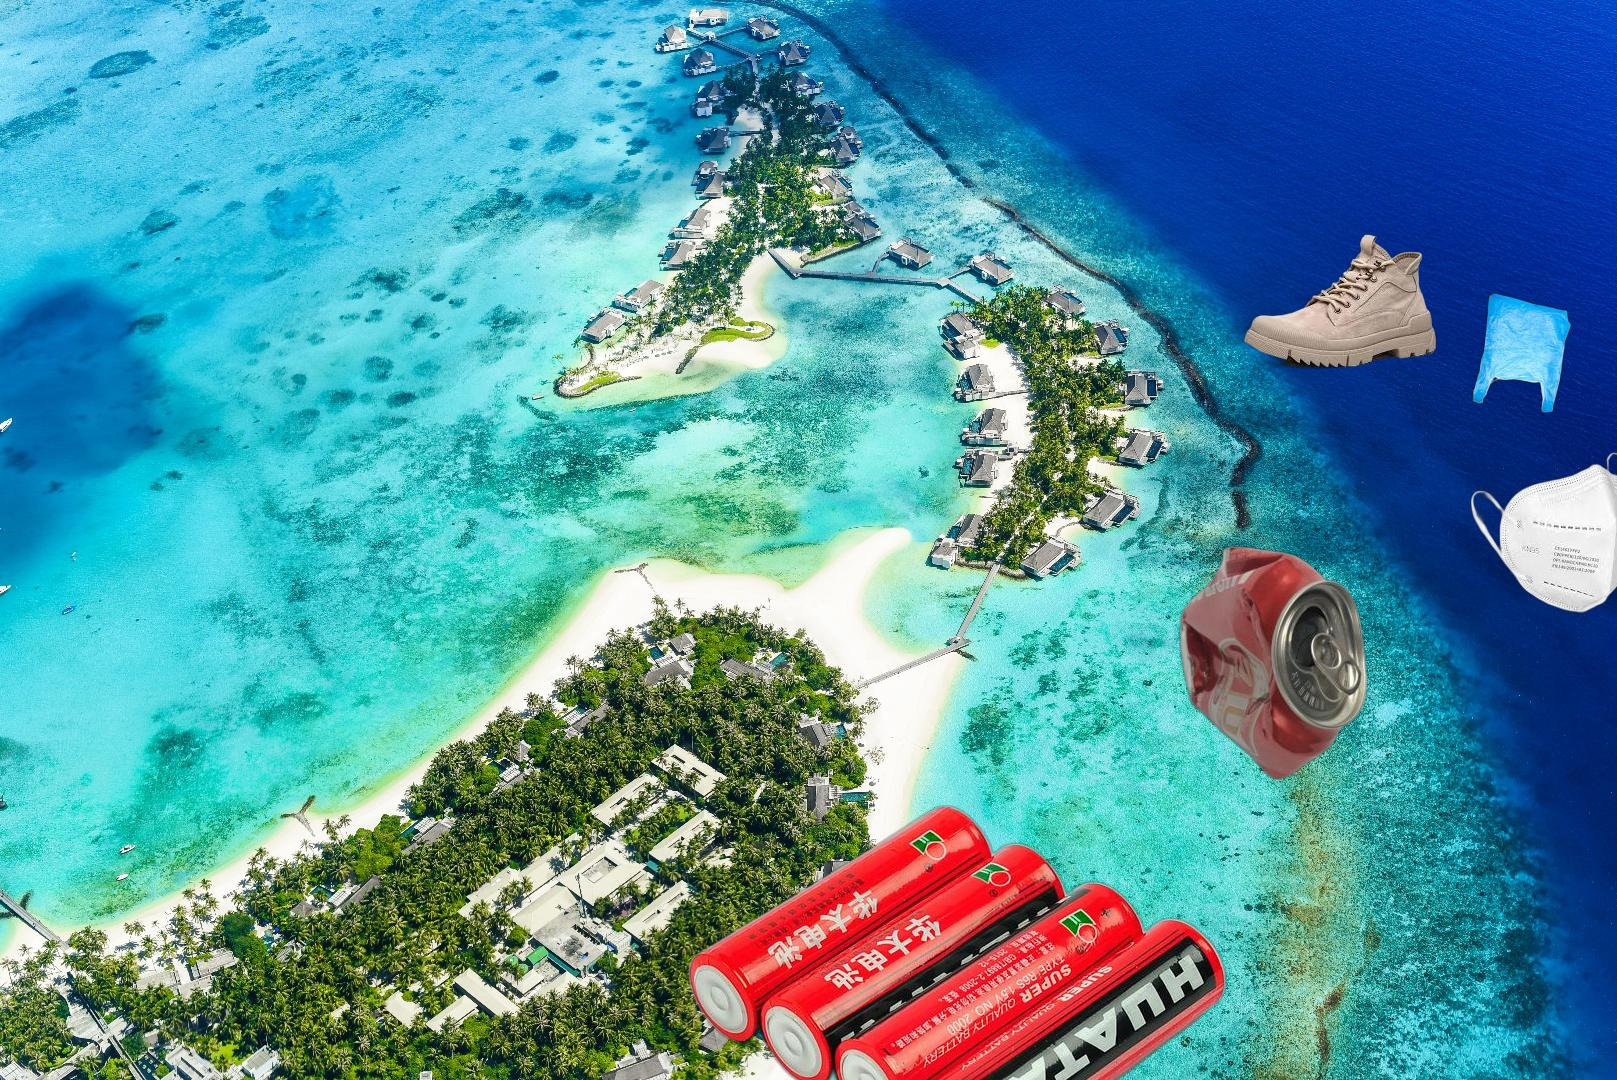battery: (681, 802, 1233, 1080)
metal-cans: (1175, 544, 1372, 783)
plastic-bag: (1469, 290, 1574, 416)
shoes: (1241, 231, 1439, 371)
trash: (1468, 450, 1617, 615)
trashbox-cardboard: (1574, 378, 1617, 1080)
